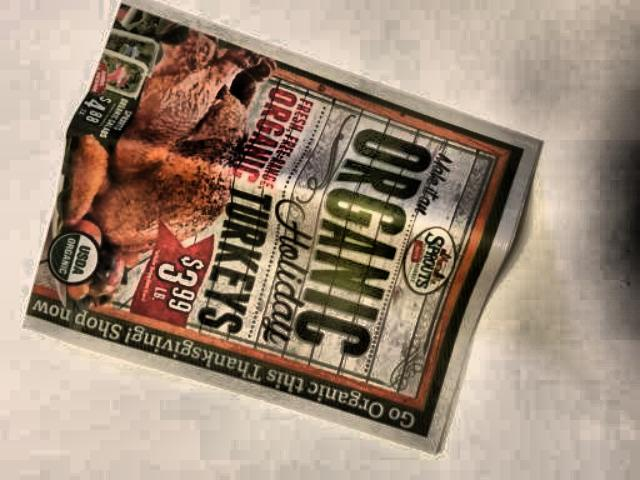Paper: (9, 0, 549, 456)
